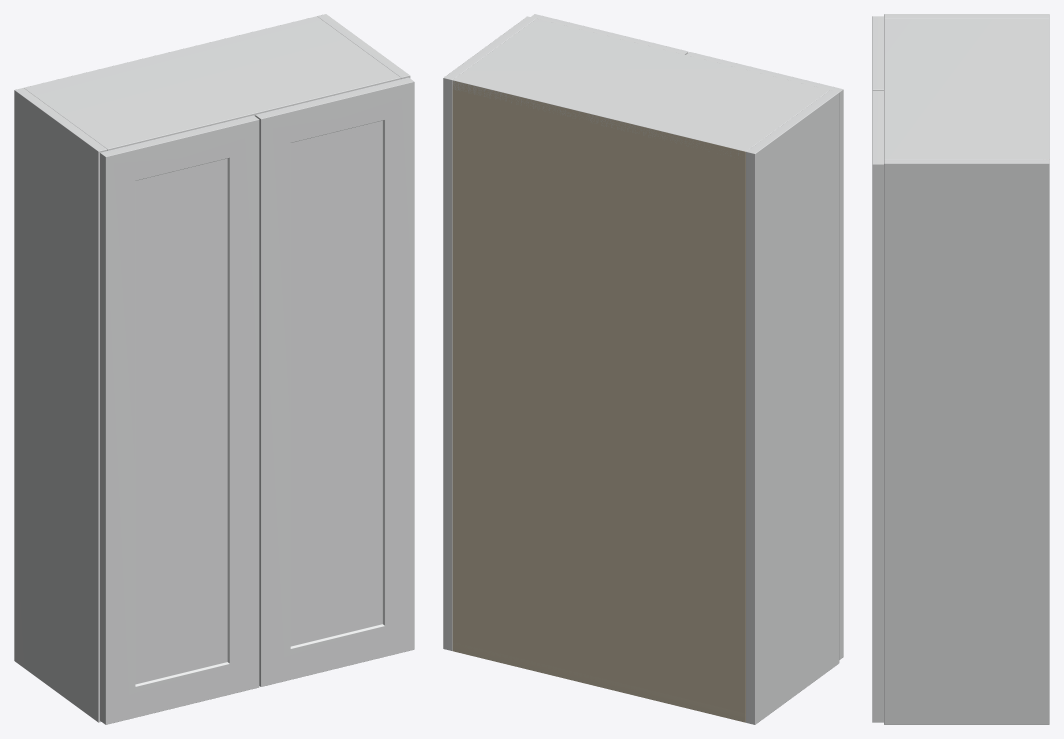
The model's file is PLY-WSS-W2442.glb.
3 renders of one model, left to right at view 1: azimuth 30°, elevation 25°; view 2: azimuth 150°, elevation 25°; view 3: azimuth 270°, elevation 25°, orthographic.
Parts seen in each view (by area): view 1: Shaker door, Shaker door.001, Carcass left, Carcass top, Carcass right; view 2: Carcass back, Carcass left, Carcass top, Carcass right, Shaker door, Carcass bottom, Shaker door.001; view 3: Carcass right, Carcass top, Shaker door.001, Shaker door, Carcass left.
Part boxes in pixels (<box>): Shaker door: <box>100,115,259,724</box>; Shaker door.001: <box>255,77,414,686</box>; Carcass left: <box>14,88,107,722</box>; Carcass top: <box>24,16,400,150</box>; Carcass right: <box>317,14,410,79</box>; Carcass back: <box>452,81,745,722</box>; Carcass left: <box>746,90,839,724</box>; Carcass top: <box>452,18,829,155</box>; Carcass right: <box>443,16,535,650</box>; Shaker door: <box>686,52,843,659</box>; Carcass bottom: <box>452,643,745,722</box>; Shaker door.001: <box>531,14,688,54</box>; Carcass right: <box>884,159,1049,724</box>; Carcass top: <box>884,18,1049,159</box>; Shaker door.001: <box>872,90,883,722</box>; Shaker door: <box>872,16,883,90</box>; Carcass left: <box>884,14,1049,18</box>.
Size of the model in its own units: 0.6096 by 1.07 by 0.3048.
